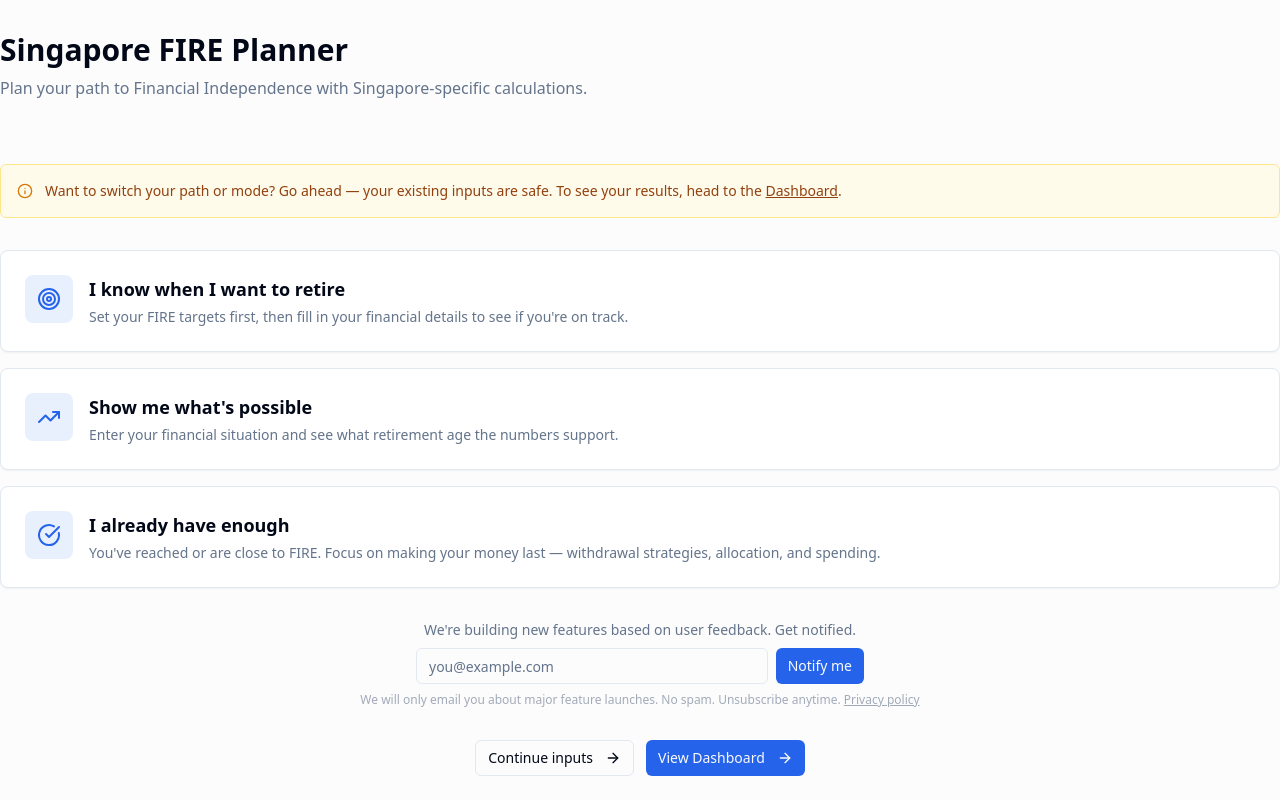
Test: StartPage › shows section toggles inline after picking any pathway
The width and height of the screenshot is (1280, 800).
Expected: the text "What should we include?" is not shown
Click the text "I know when I want to retire": (217, 289) [89,277,345,301]
(page scrolled)
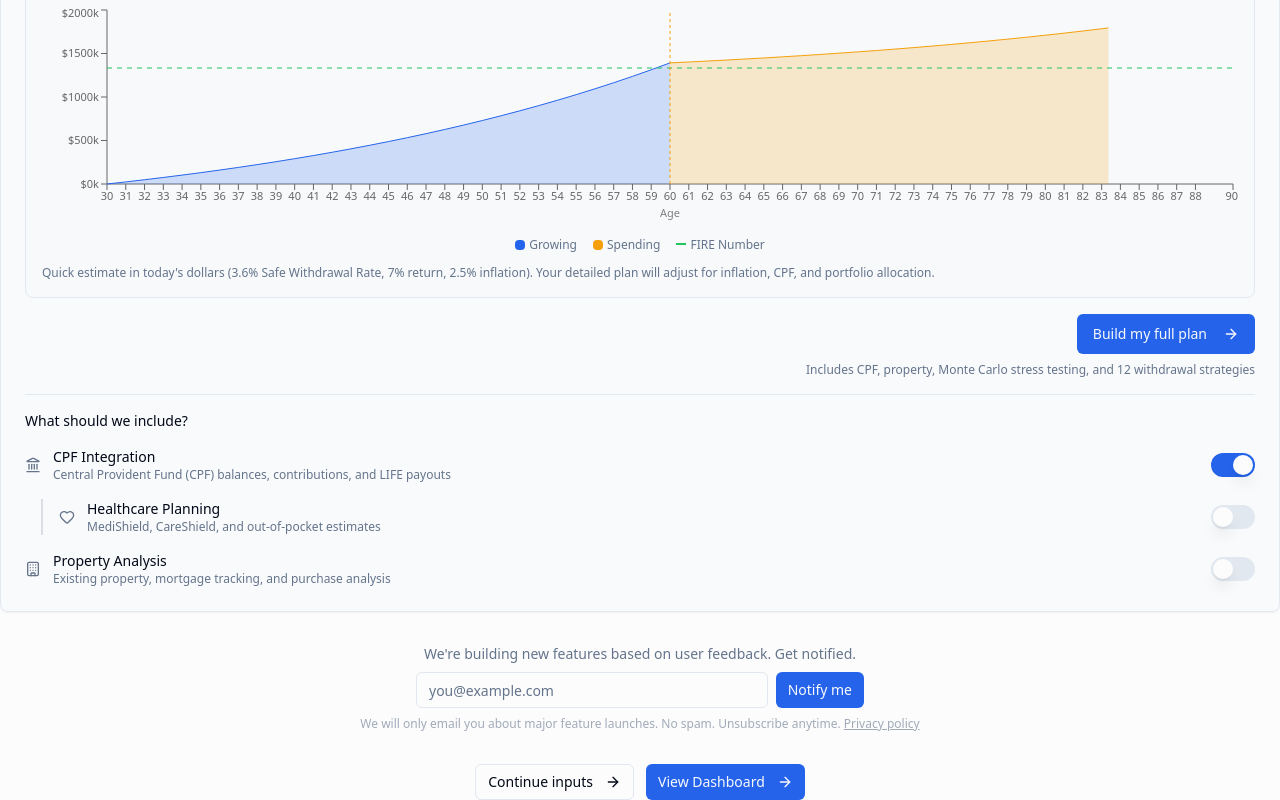
Result: the text "What should we include?" is shown at [25,411,188,430]
Result: the text "CPF Integration" is shown at [53,447,155,466]
Result: the text "Property Analysis" is shown at [53,551,167,570]
